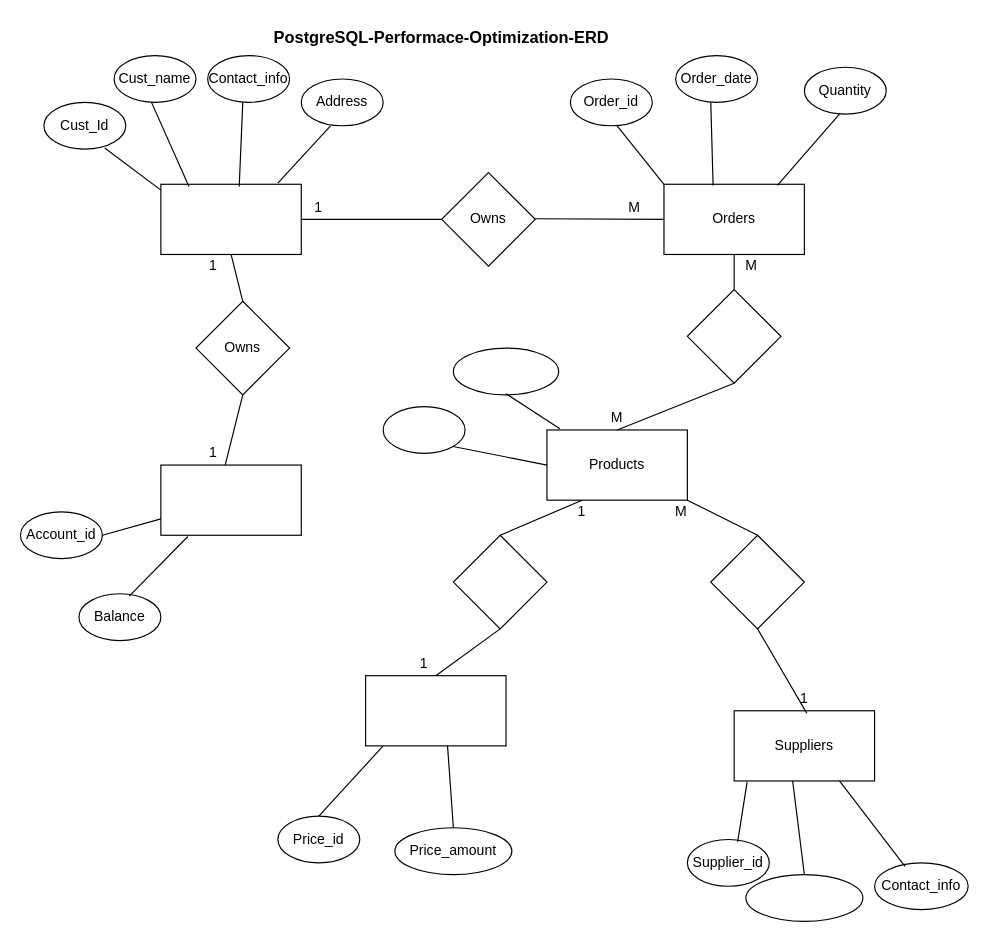
Image size: 989x942. Some labels were removed from this diagram. Each missing label, with the centre of its shape:
"Accounts" goes at point (230, 499).
"Customers" goes at point (230, 218).
"has-one" goes at point (499, 581).
"have" goes at point (733, 335).
"Prices" goes at point (435, 710).
"Product_id" goes at point (423, 429).
"Product_name" goes at point (505, 371).
"Supplier_name" goes at point (804, 897).
"supplies" goes at point (757, 581).
